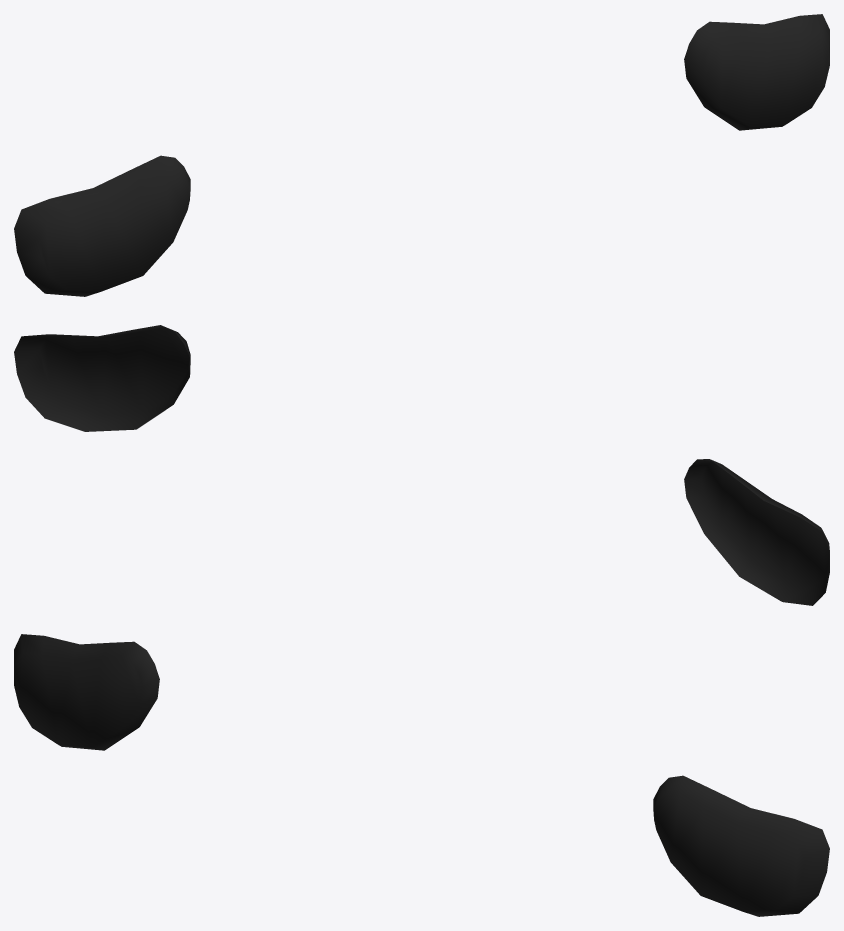
The model's file is eyebrow_6.fbx.
3 views of the same model, one above another, from view 1: azimuth 30°, elevation 25°; view 2: azimuth 150°, elevation 25°; view 3: azimuth 330°, elevation 25° (orthographic).
Parts seen in each view (by area): view 1: eyebrow_6; view 2: eyebrow_6; view 3: eyebrow_6.
Part boxes in pixels (x1=…): eyebrow_6: x1=14, y1=14, x2=829, y2=296; eyebrow_6: x1=14, y1=325, x2=829, y2=605; eyebrow_6: x1=14, y1=634, x2=829, y2=916.
Size of the model in its own units: 0.7019 by 0.102 by 0.0381.
